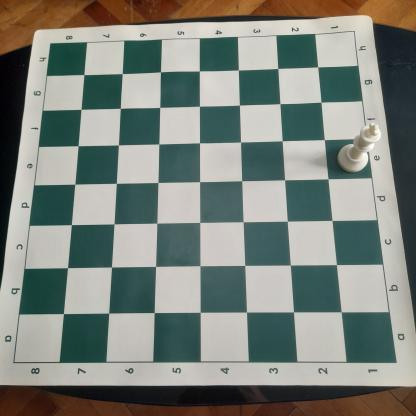white-king: (333, 121, 381, 174)
